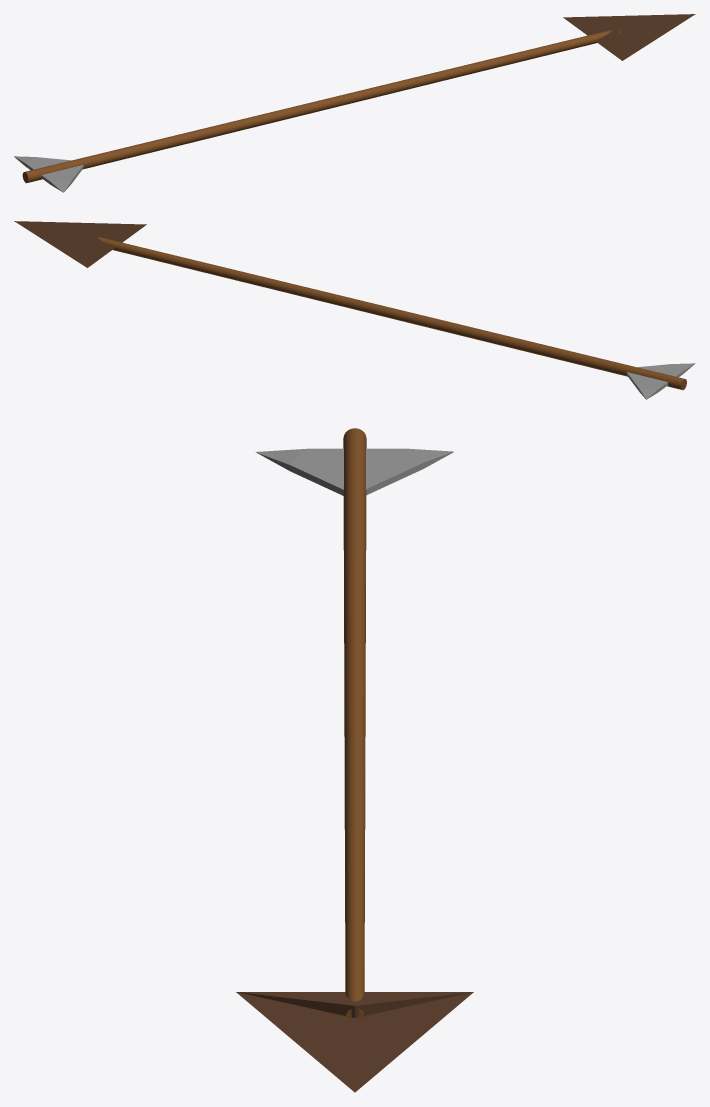
The model's file is arrow.glb.
3 views of the same model, one above another, from view 1: azimuth 30°, elevation 25°; view 2: azimuth 150°, elevation 25°; view 3: azimuth 270°, elevation 25° (orthographic). The views are drawn at different scales.
Visible parts, largest first — view 1: Arrow; view 2: Arrow; view 3: Arrow.
Boxes of the visible parts, box(x1,y1,x2,y2) form: Arrow: box(14, 14, 695, 192); Arrow: box(14, 221, 695, 399); Arrow: box(236, 428, 473, 1092).
Bounding box in the file's own units: 21.12 × 0.3723 × 3.26.
